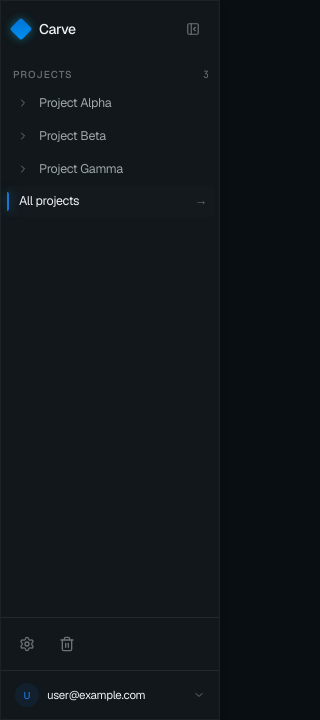
Test: LeftNav — project→tasks tree (v3.1 Issue 5) › expanding project B caps tasks at 5 and shows '+ 2 more' overflow
Expected: the list item with test id "leftnav-project-B" is shown, x1=15 y1=127 x2=106 y2=144
Click the button with test id "leftnav-project-toggle-B": (23, 136) x1=15 y1=128 x2=31 y2=144
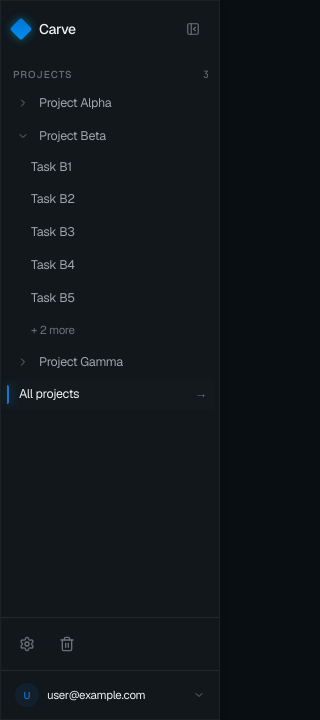
Expected: the list item with test id "leftnav-task-TB1" is shown, x1=31 y1=158 x2=72 y2=174
Expected: the list item with test id "leftnav-tasks-more-B" reads "+ 2 more", x1=31 y1=322 x2=75 y2=337
